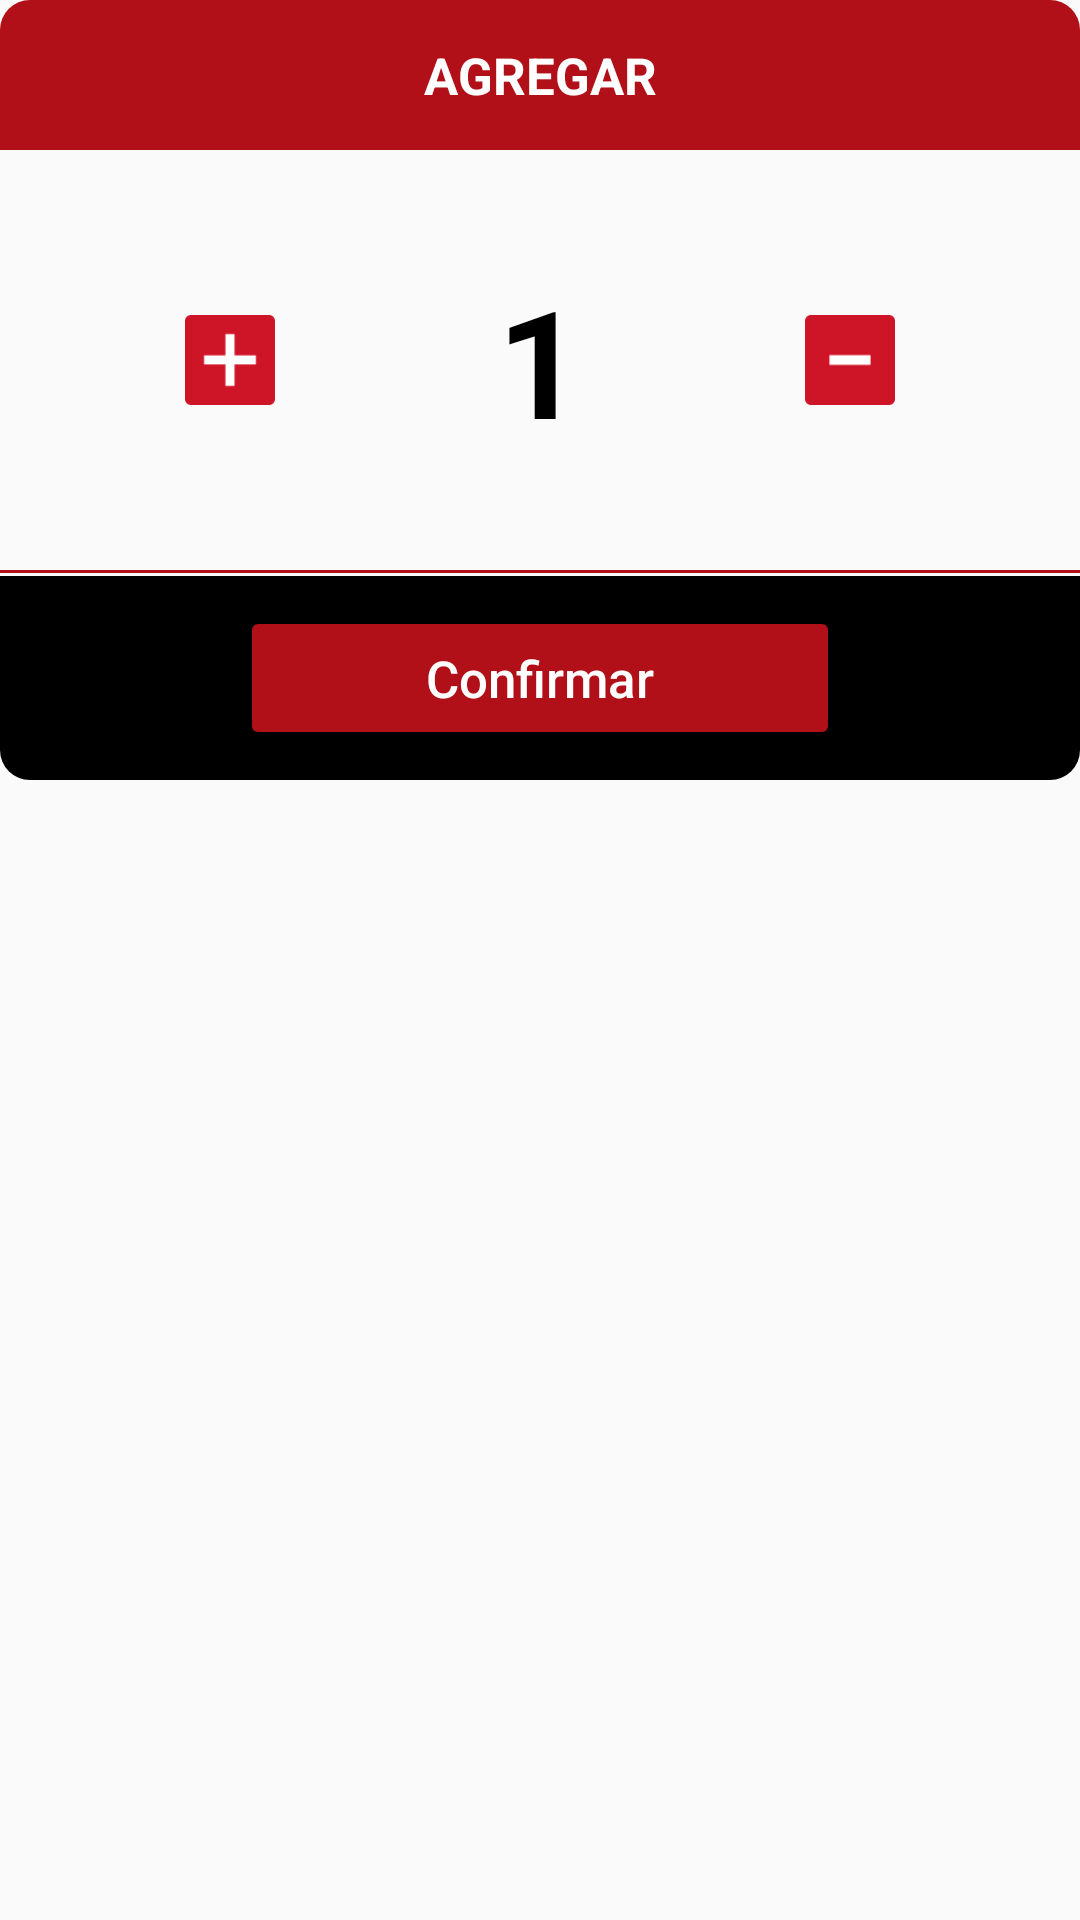

Icon bounding boxes for this 1080w x 1920h phone screenshot, format (x1, y1, x2, y2):
mas: (185, 315, 275, 405)
menos: (805, 315, 895, 405)
